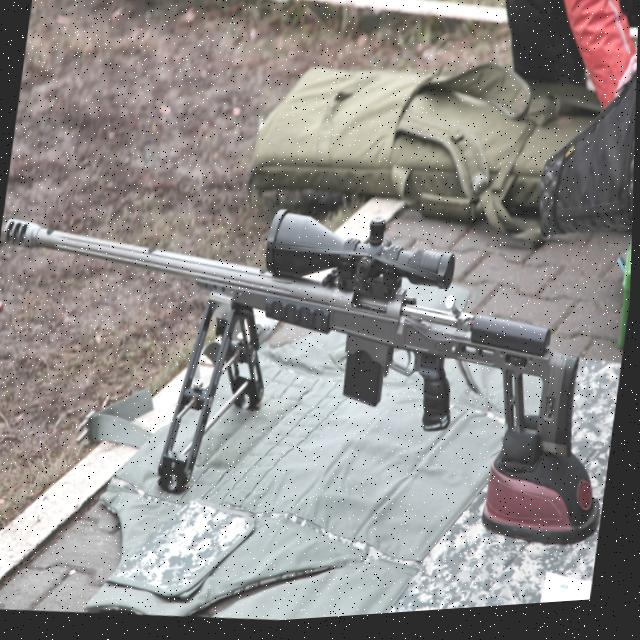firearm: (0, 165, 608, 556)
